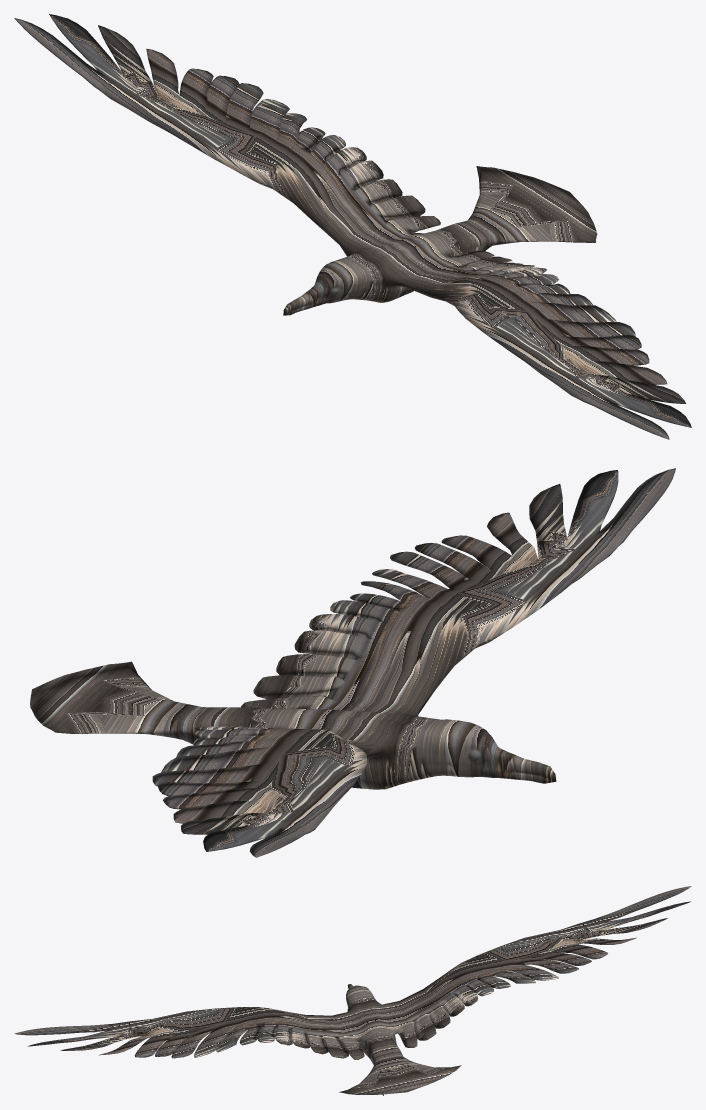
File: obiect_de_miscat2.obj
3 views of the same model, one above another, from view 1: azimuth 30°, elevation 25°; view 2: azimuth 150°, elevation 25°; view 3: azimuth 270°, elevation 25° (orthographic). The views are drawn at different scales.
Visible parts, largest first — view 1: GULL; view 2: GULL; view 3: GULL.
Boxes of the visible parts, x1,y1,x2,y2 form: GULL: [14, 14, 691, 439]; GULL: [30, 468, 675, 857]; GULL: [14, 886, 691, 1095].
Size of the model in its own units: 0.2755 by 0.126 by 0.6355.
1 material, 1 textured.
